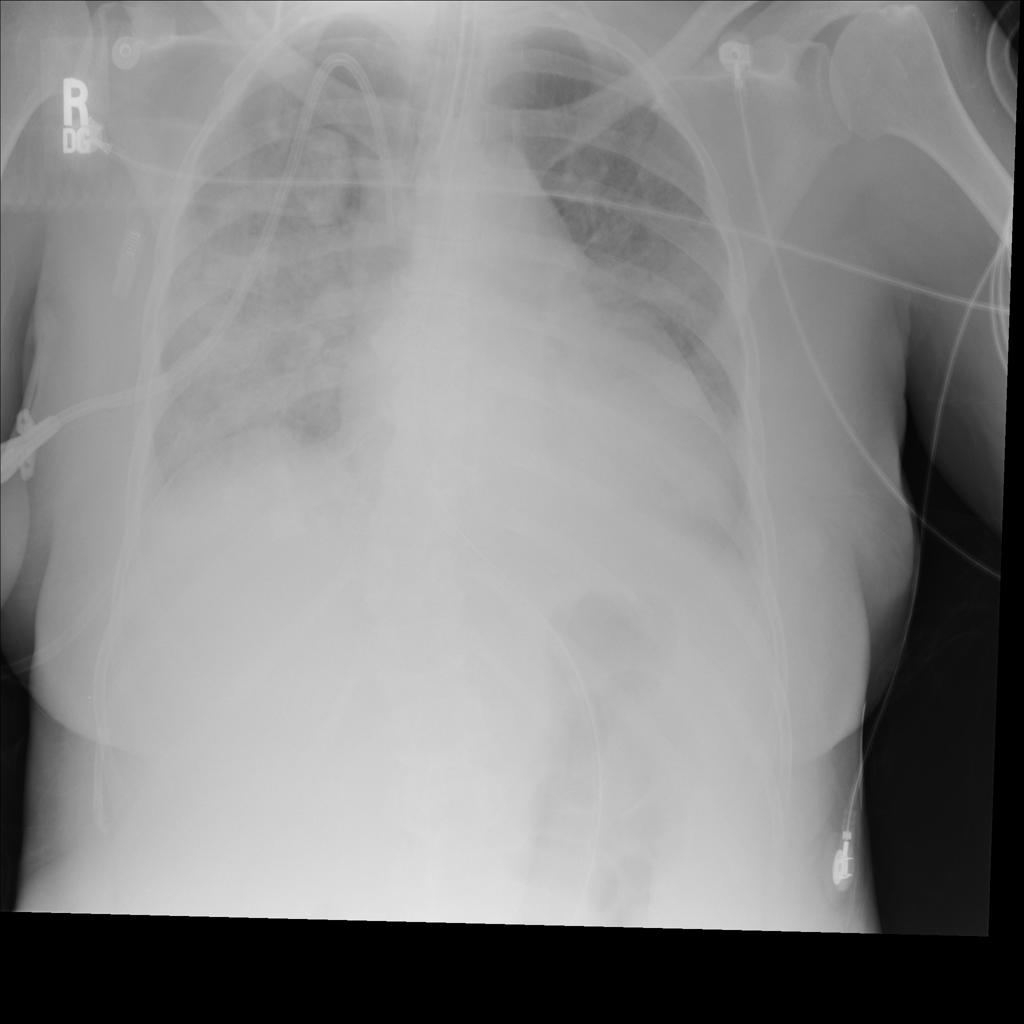Cardiomegaly: (315, 208, 750, 602)
